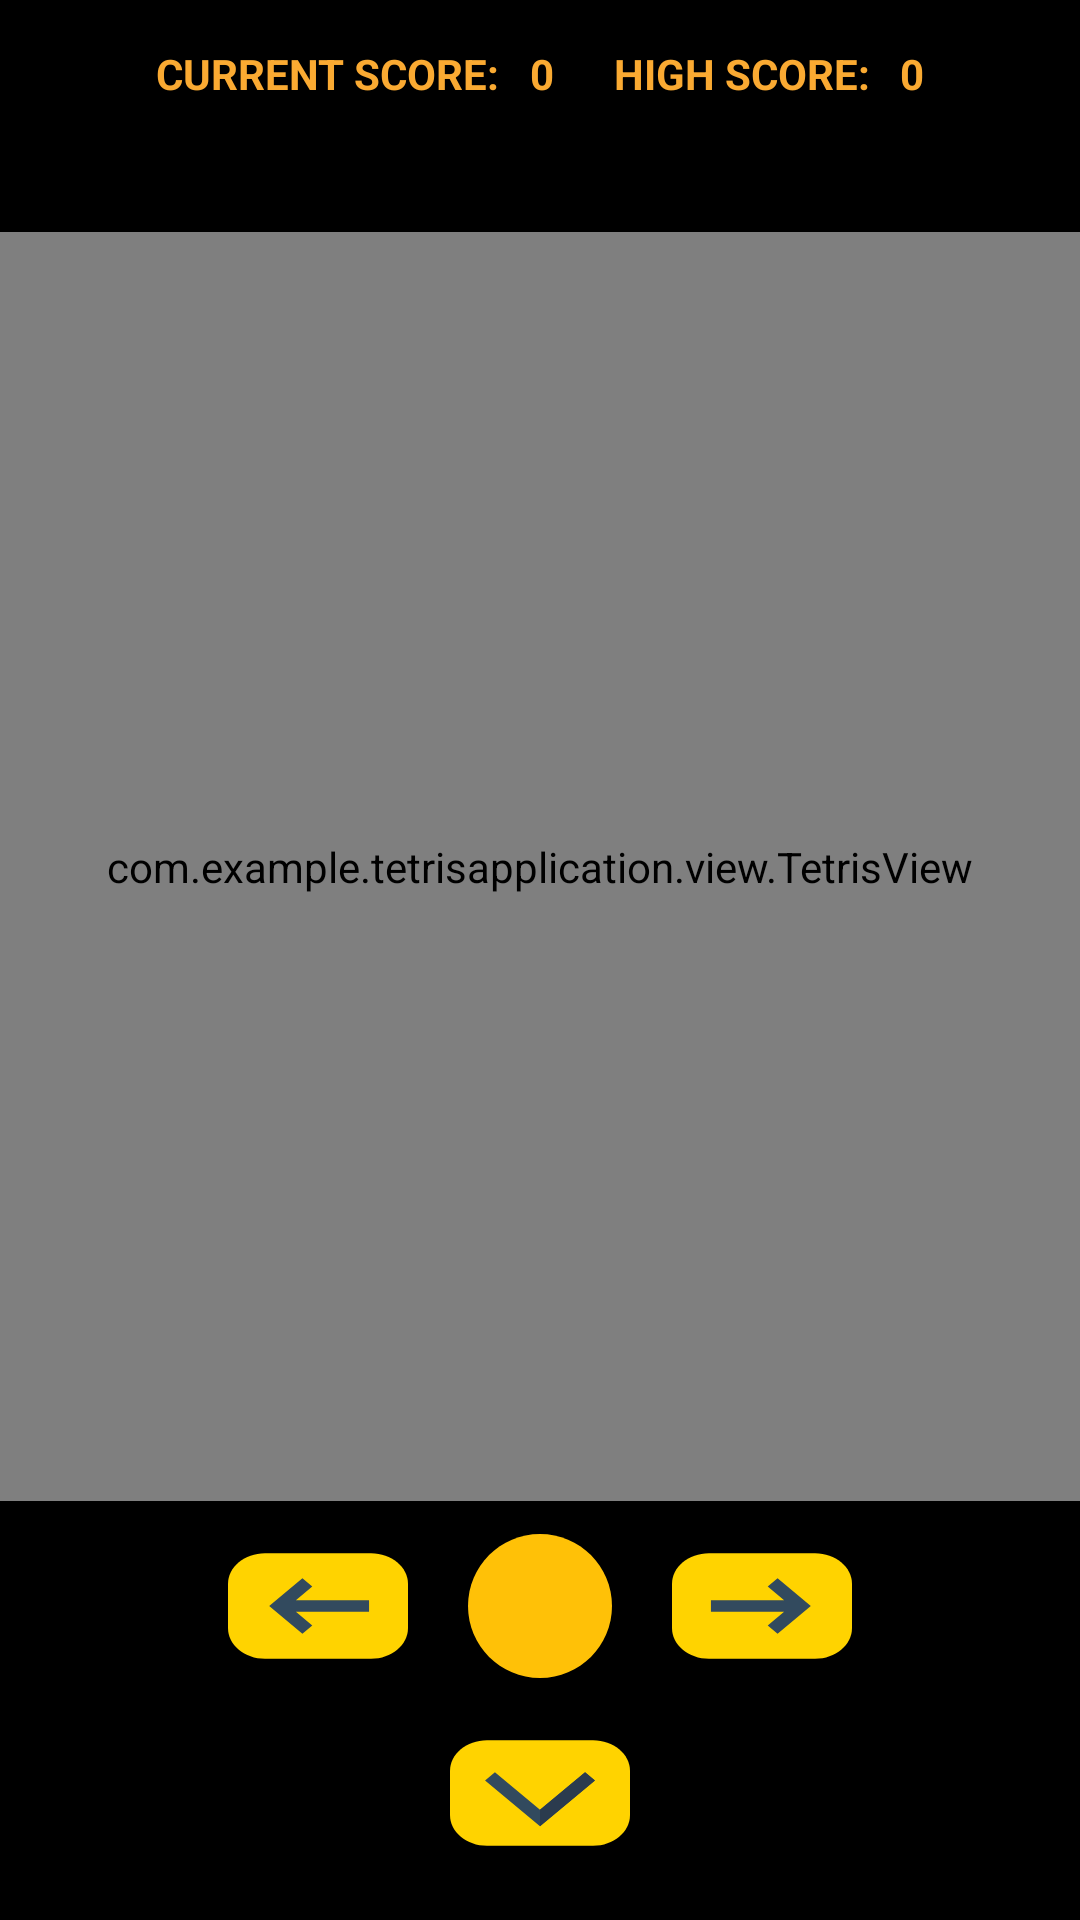

Screen size 1080w x 1920h. Icon name, then its center in pixels as (x=x, y=y):
left arr: (x=318, y=1606)
right arr: (x=762, y=1606)
